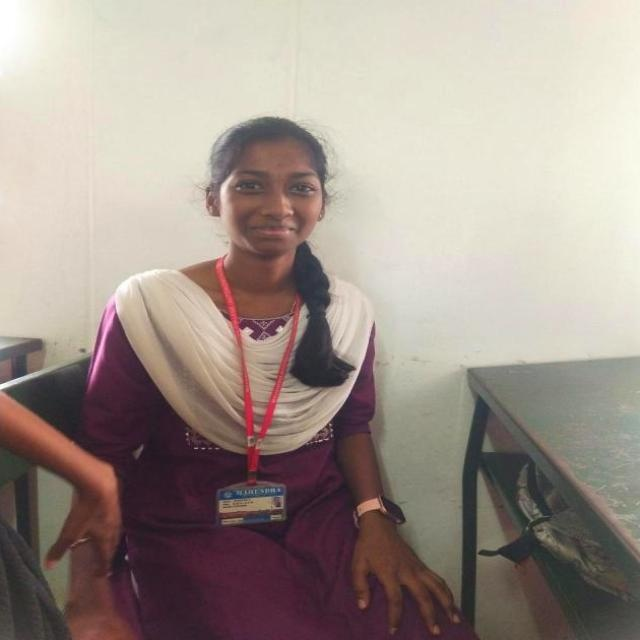ID_card: (218, 266, 288, 520)
